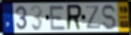3: (30, 4, 45, 32), (15, 5, 28, 32)
E: (48, 4, 67, 31)
R: (66, 4, 83, 32)
S: (101, 3, 118, 31)
Z: (85, 5, 102, 30)
